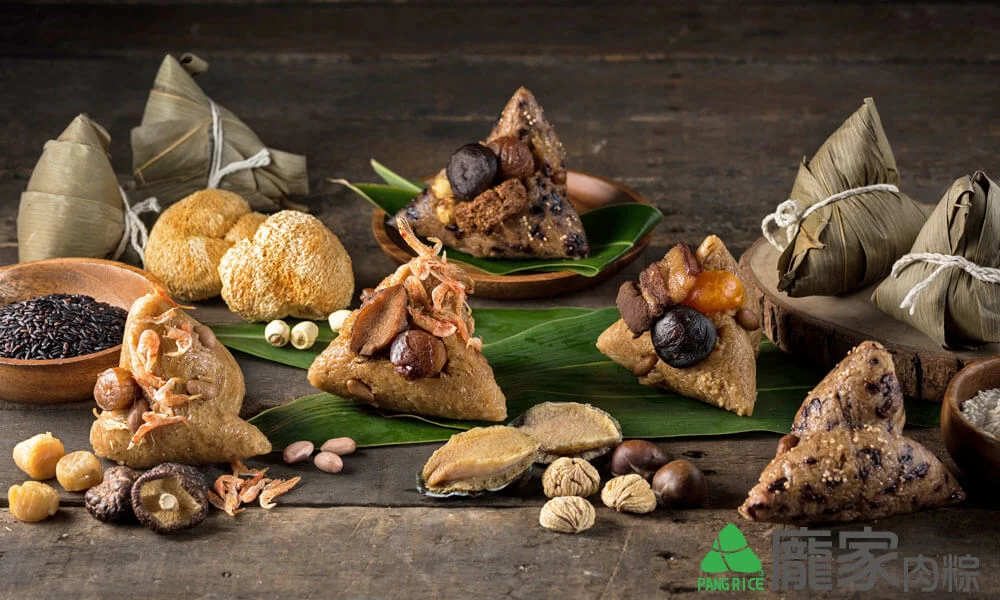zongzi: (308, 88, 587, 421), (740, 341, 964, 521), (762, 98, 926, 296), (91, 294, 271, 467), (598, 236, 761, 415), (131, 54, 308, 210), (872, 171, 999, 346), (18, 114, 124, 261)
